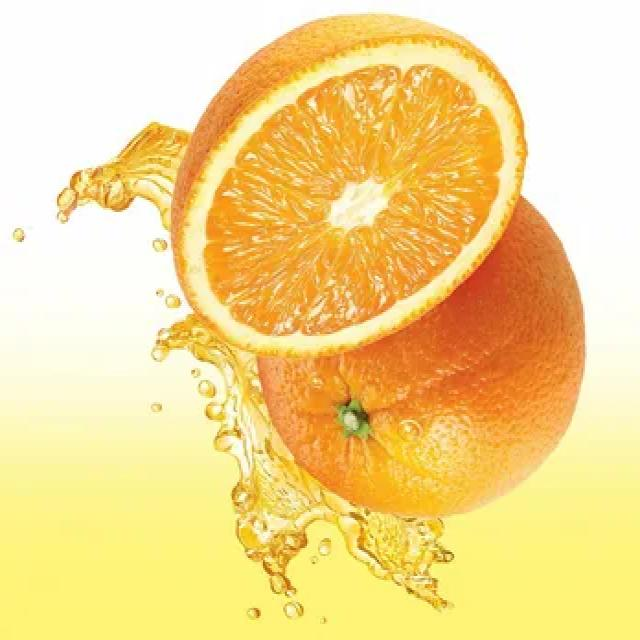orange: (166, 14, 534, 377)
